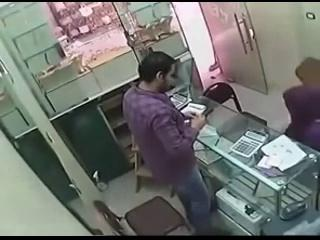Normal: (122, 52, 219, 234)
